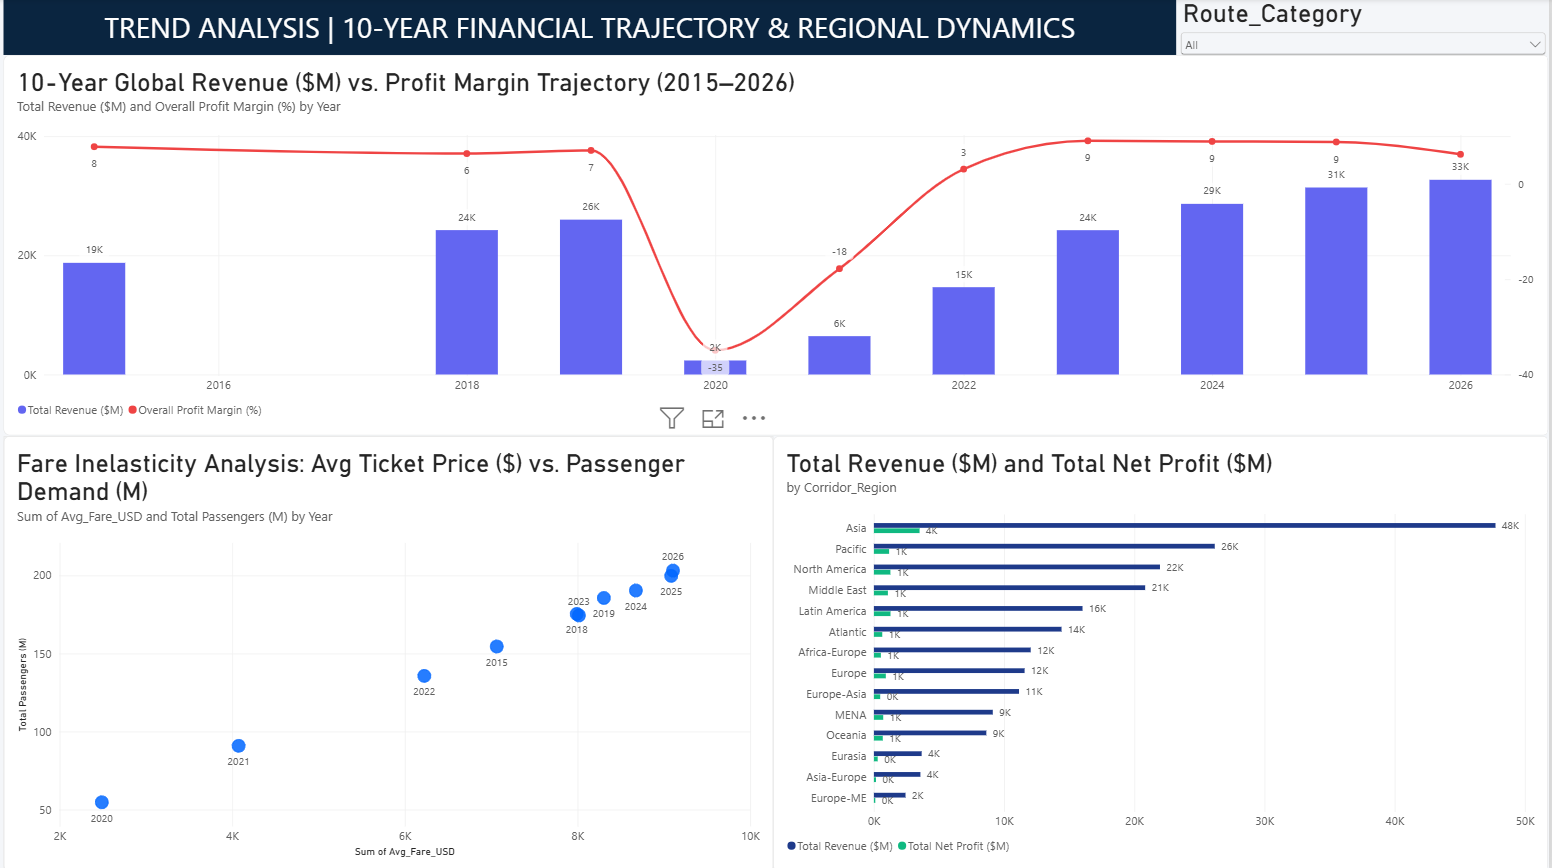

The page's visual inventory and layout, read from the dashboard file:
{"tool":"powerbi","page":{"name":"2. Trend Analysis","canvas":[1920,1080],"ordinal":1},"visuals":[{"type":"shape","box":[9.1,0,1449.1,70.4],"z":0},{"type":"lineClusteredColumnComboChart","title":"10-Year Global Revenue ($M) vs. Profit Margin Trajectory (2015–2026)","fields":{"Category":["Dim_Date.Year"],"Y":["Fact_Route_Performance.Total Revenue ($M)"],"Y2":["Fact_Route_Performance.Overall Profit Margin (%)"]},"box":[9.1,70.4,1910.2,470.2],"z":1000},{"type":"clusteredBarChart","fields":{"Category":["Dim_Route.Corridor_Region"],"Y":["Fact_Route_Performance.Total Revenue ($M)","Fact_Route_Performance.Total Net Profit ($M)"]},"box":[960.8,540.6,958.5,538.3],"z":2000},{"type":"scatterChart","title":"Fare Inelasticity Analysis: Avg Ticket Price ($) vs. Passenger Demand (M)","fields":{"Category":["Dim_Date.Year"],"X":["Sum(Fact_Route_Performance.Avg_Fare_USD)"],"Y":["Fact_Route_Performance.Total Passengers (M)"]},"box":[9,541,952,538],"z":3000},{"type":"slicer","fields":{"Values":["Dim_Route.Route_Category"]},"box":[1458.2,0,461.1,70.4],"z":4000}]}

Visuals, with their boxes in screenshot pixels (x1, y1, x2, y2), scaled from the page's 1920x1080 canvas onto the 1552x868 screenshot:
shape: box(7, 0, 1179, 57)
"10-Year Global Revenue ($M) vs. Profit Margin Trajectory (2015–2026)" lineClusteredColumnComboChart: box(7, 57, 1551, 434)
clusteredBarChart - Dim_Route.Corridor_Region x Fact_Route_Performance.Total Revenue ($M): box(777, 434, 1551, 867)
"Fare Inelasticity Analysis: Avg Ticket Price ($) vs. Passenger Demand (M)" scatterChart: box(7, 435, 777, 867)
slicer - Dim_Route.Route_Category: box(1179, 0, 1551, 57)
